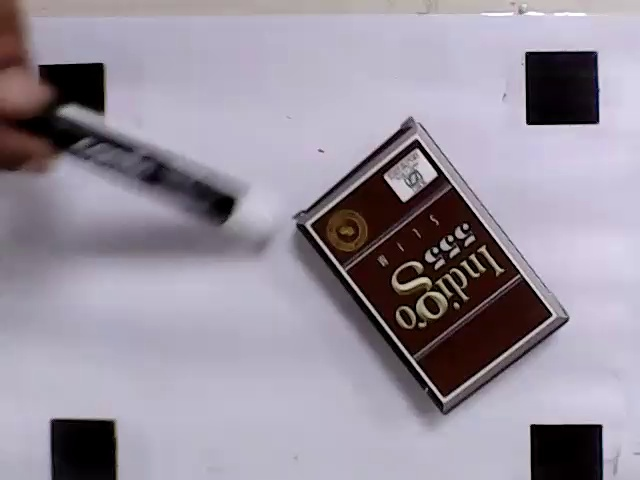BEX: (307, 137, 554, 402)
